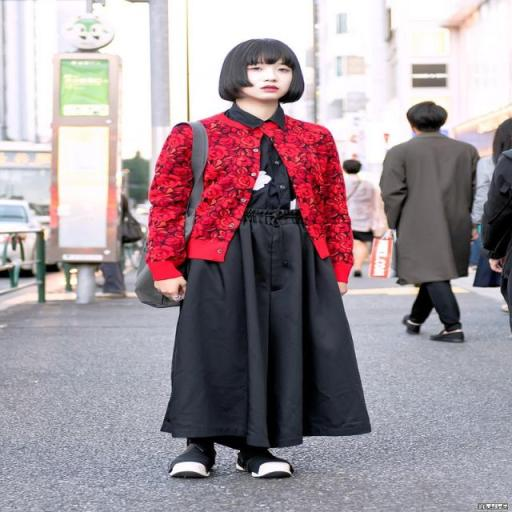person: (146, 37, 374, 483), (381, 101, 479, 343), (343, 161, 381, 279)
